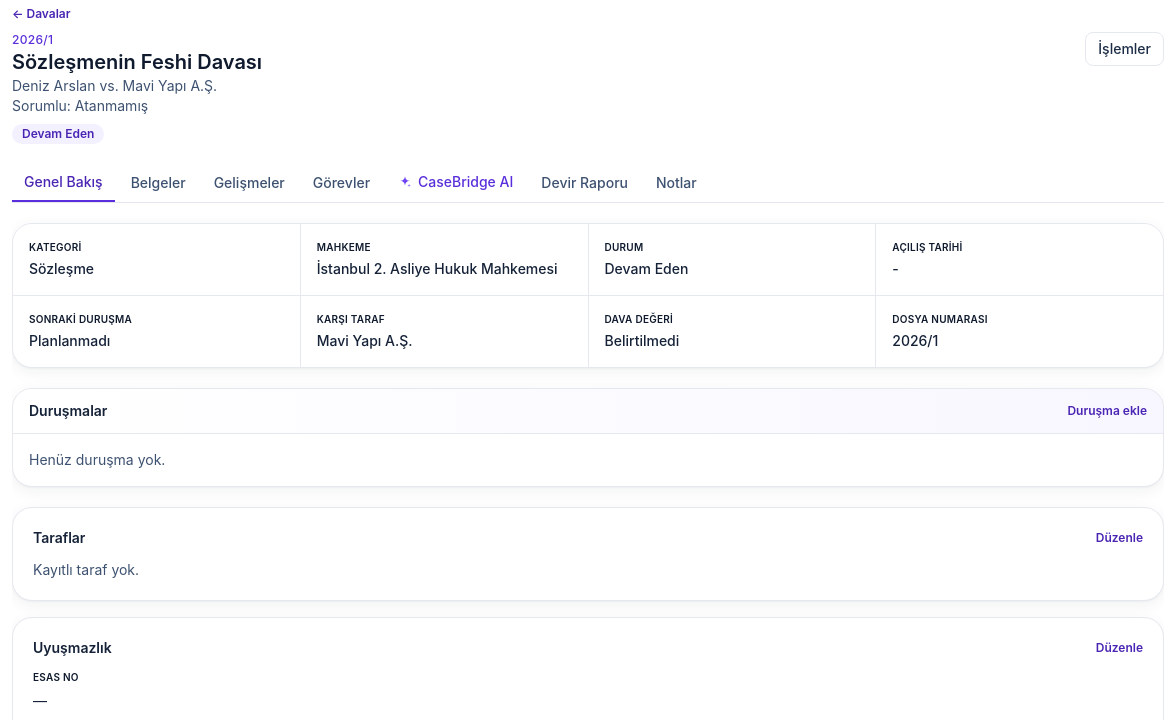
Scenario: CaseDetailView › offers a retry button for a failed simulation and re-polls after retrying
Expected: the heading "Sözleşmenin Feshi Davası" is shown, [12,48,262,76]
What coordinates should you click on to do the following:
click the tab "CaseBridge AI"
I would click on:
 (456, 183)
Its box is [386,164,525,202].
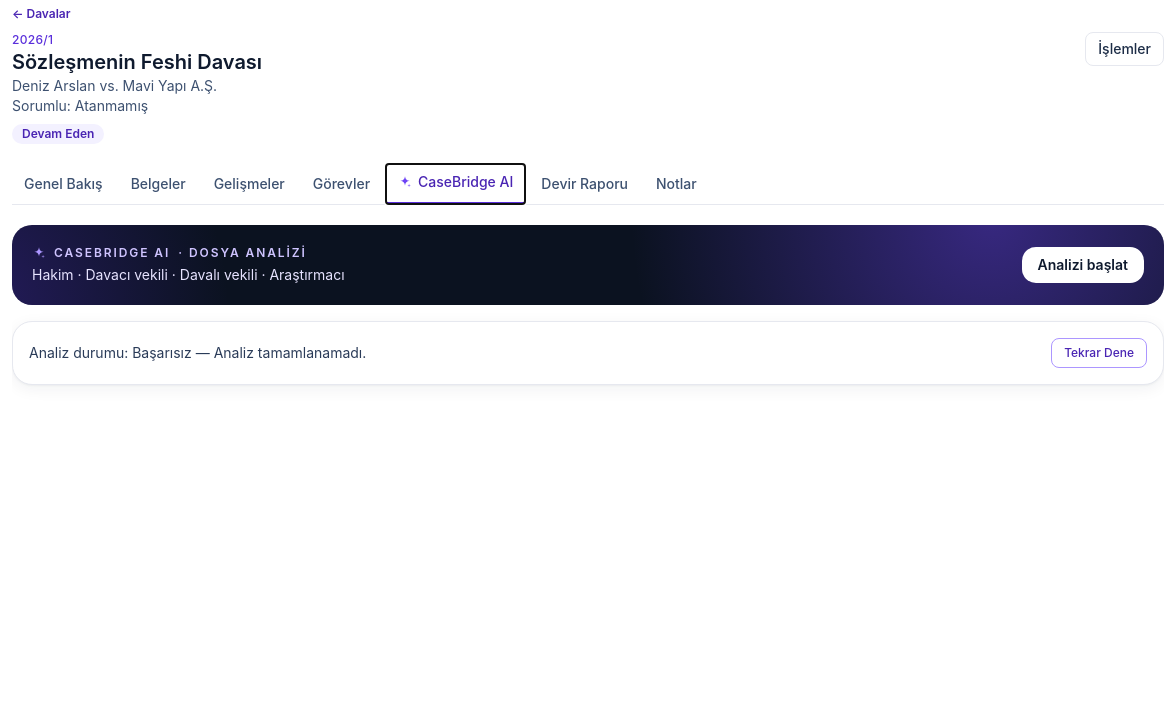
Result: the text "Analiz durumu: Başarısız — Analiz tamamlanamadı." is shown at [29,343,366,363]
What coordinates should you click on to do the following:
click the button "Tekrar Dene"
I would click on:
 (1099, 353)
Its box is [1051,338,1147,368].
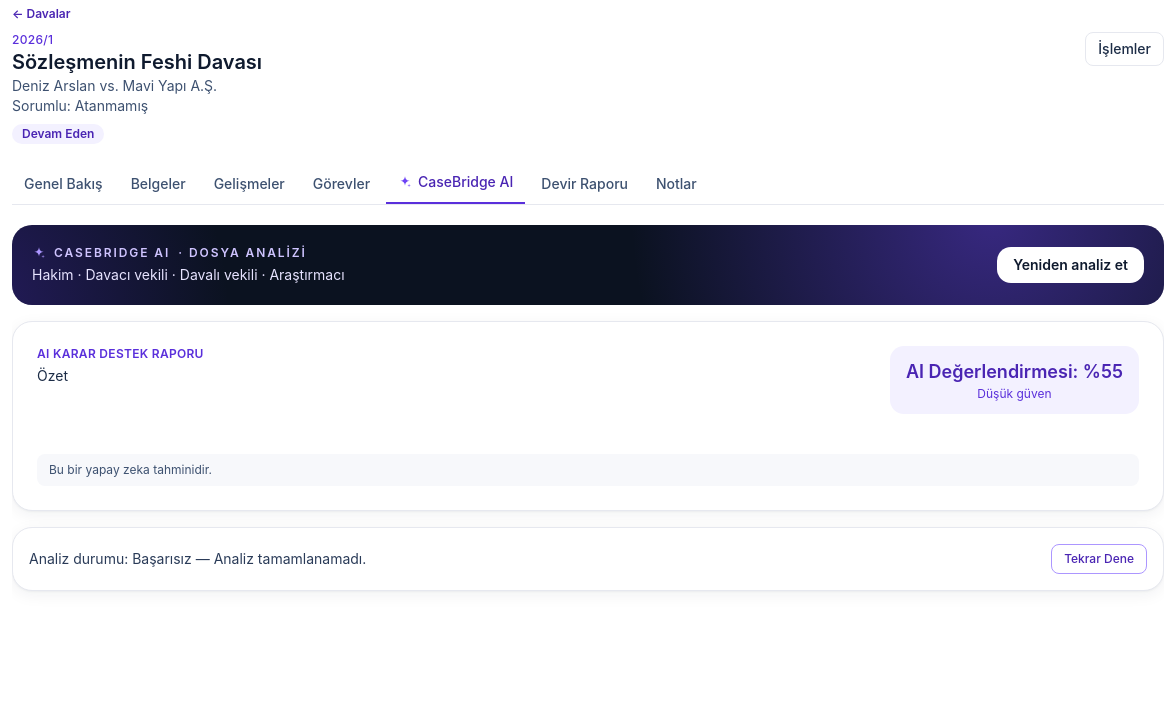
Result: the text "AI Değerlendirmesi: %55" is shown at [906,358,1123,386]
